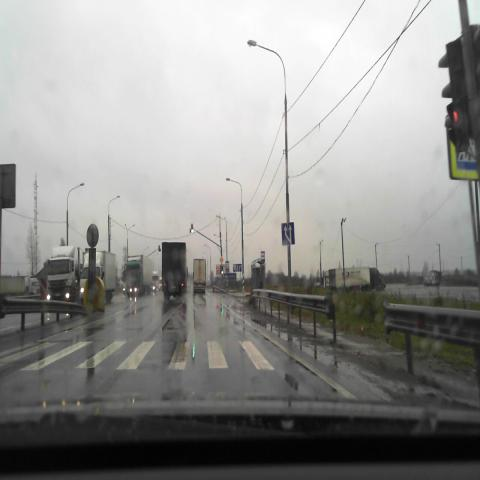5_15_3: (281, 222, 295, 246)
5_19_1: (446, 114, 480, 182)
